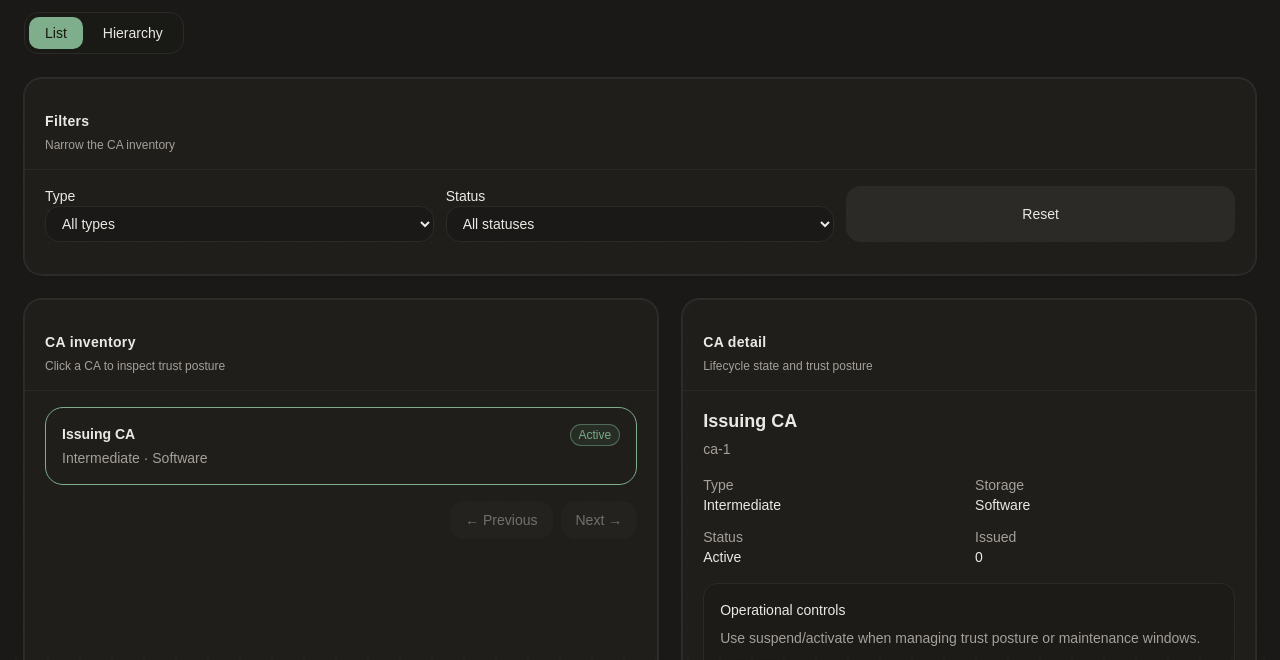
Test: CA revoke (W23-36) › shows pending state on 202 and never marks the CA revoked
The width and height of the screenshot is (1280, 660).
Click the button "Issuing CA Intermediate · Software Active". click: [99, 434]
box: [45,406,637,484]
(page scrolled)
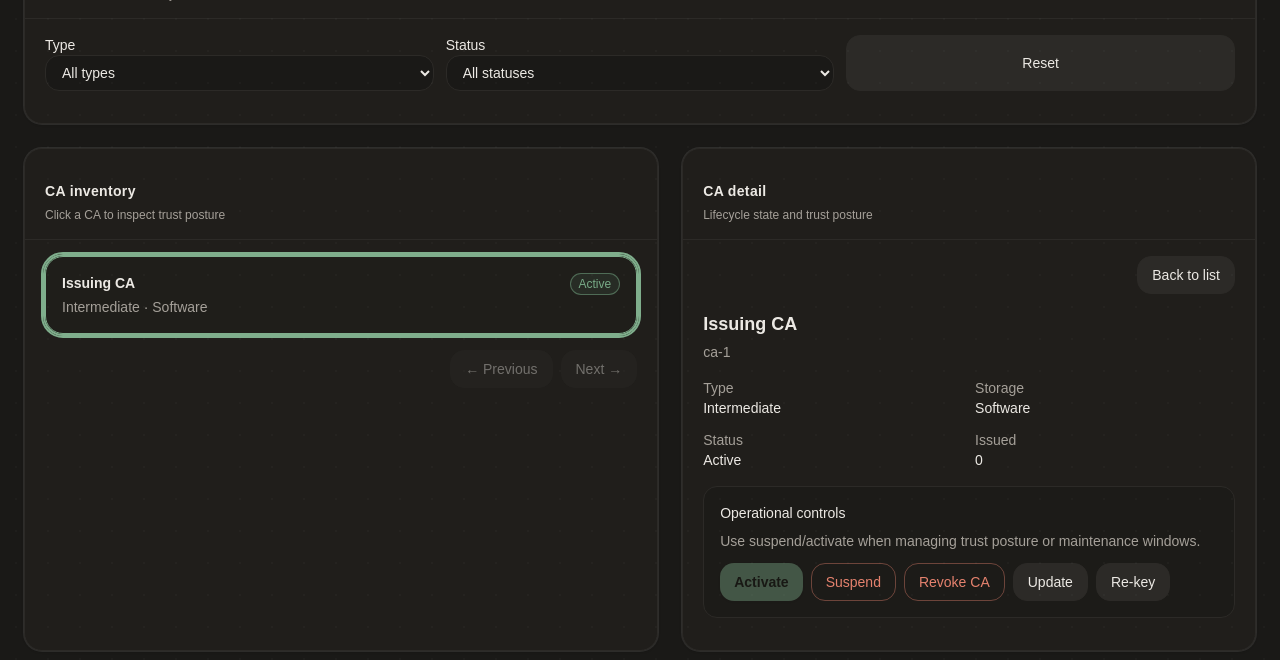
Click the button "Revoke CA". click: [954, 582]
box: [904,562,1005,600]
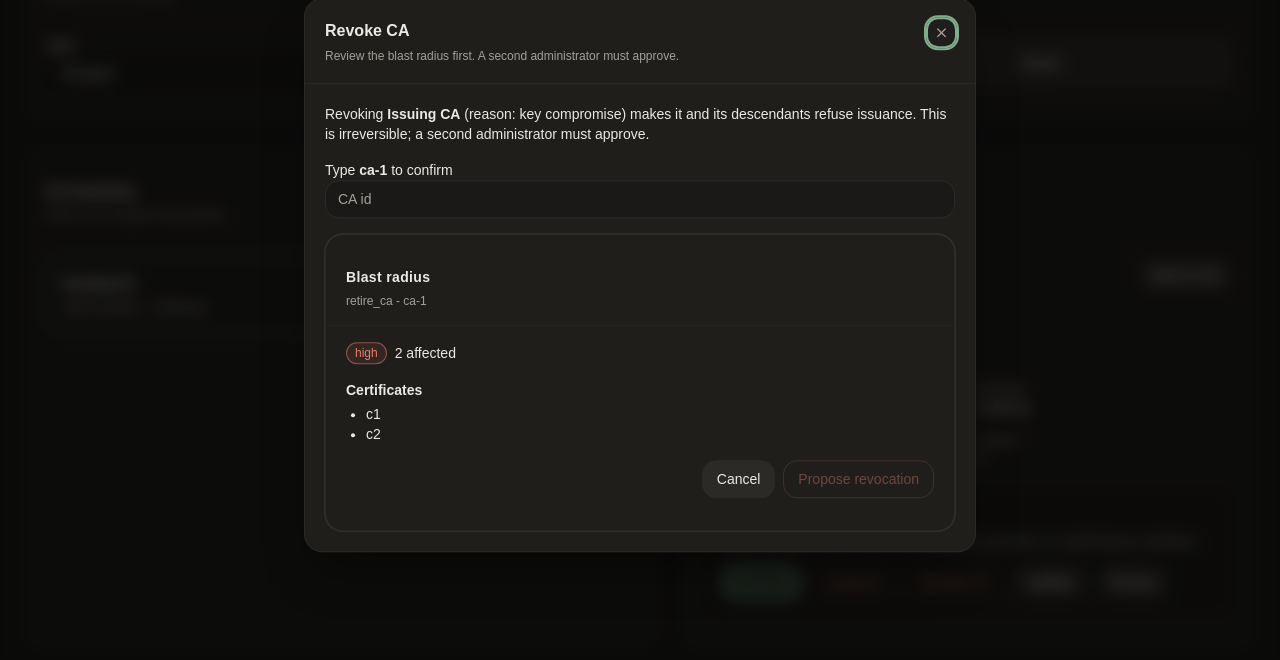
Expected: the text "2 affected" is shown, [395,343,456,363]
Type "ca-1" into the field labelled "Type ca-1 to confirm". click: [640, 199]
box: [325,180,955,218]
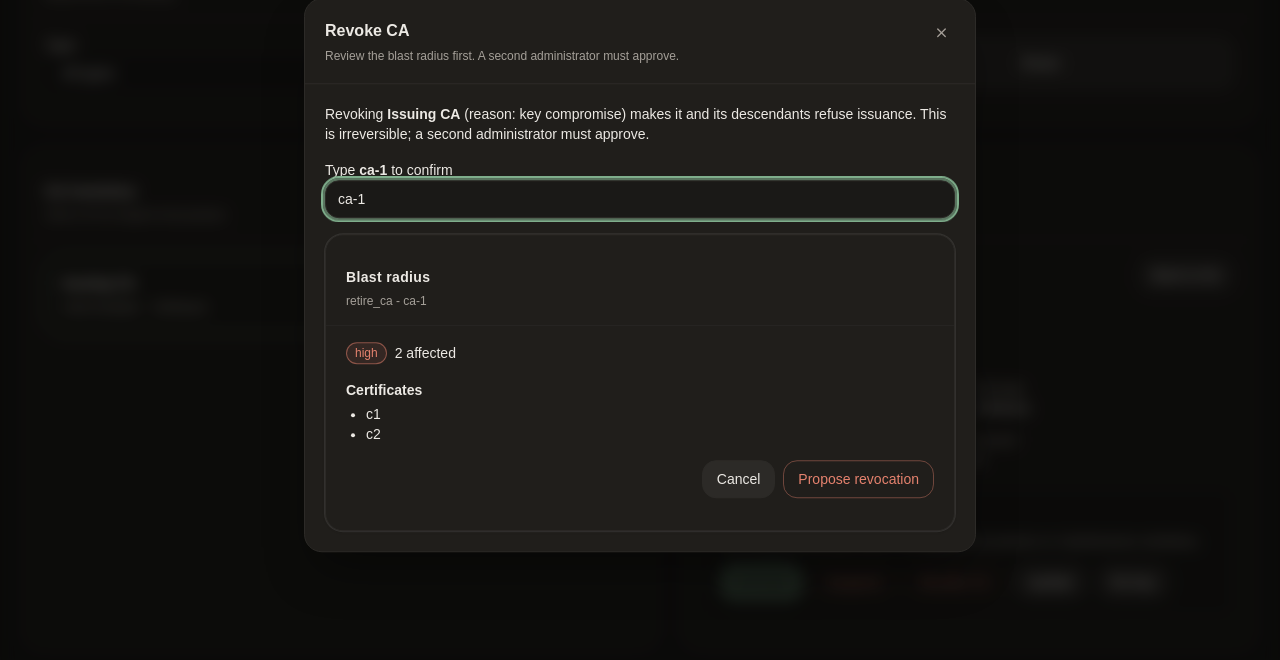
Click the button "Propose revocation". click: [859, 479]
box: [783,460,934,498]
(page scrolled)
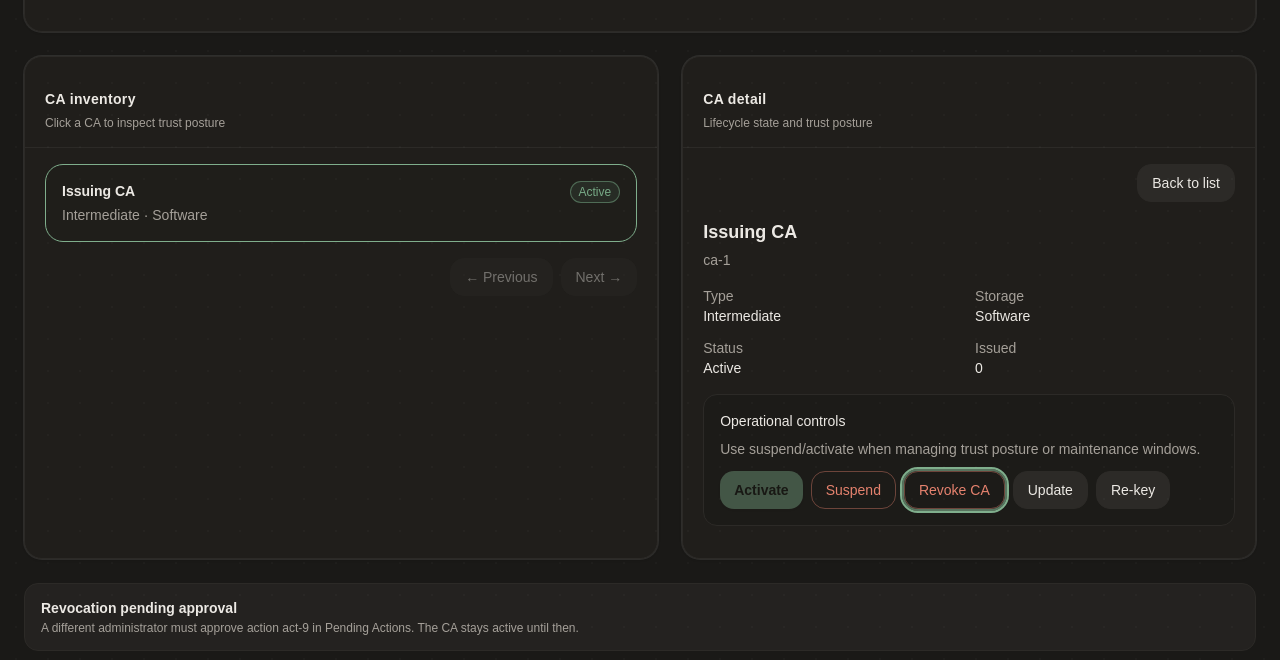
Expected: the text "act-9" is shown, [41,620,579,634]
